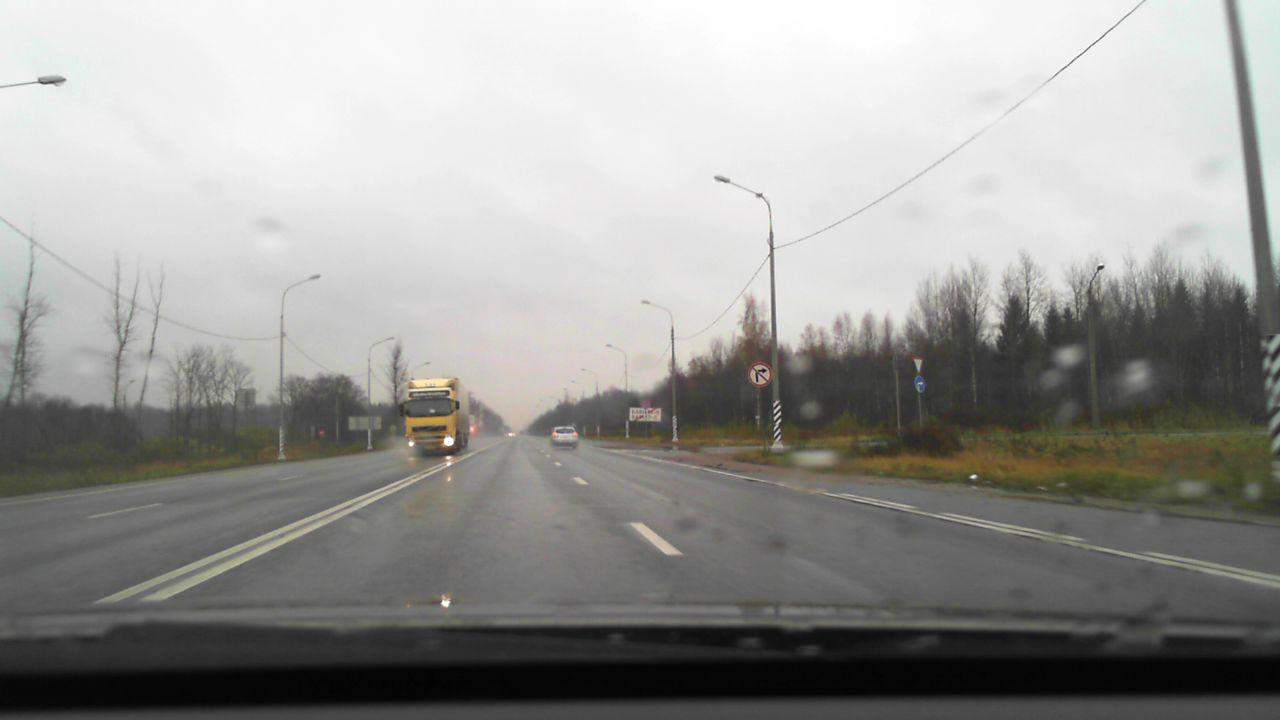2_4: (911, 357, 926, 372)
3_18_1: (746, 360, 773, 388)
4_1_2: (914, 374, 926, 392)
5_24_1: (630, 406, 664, 424)
